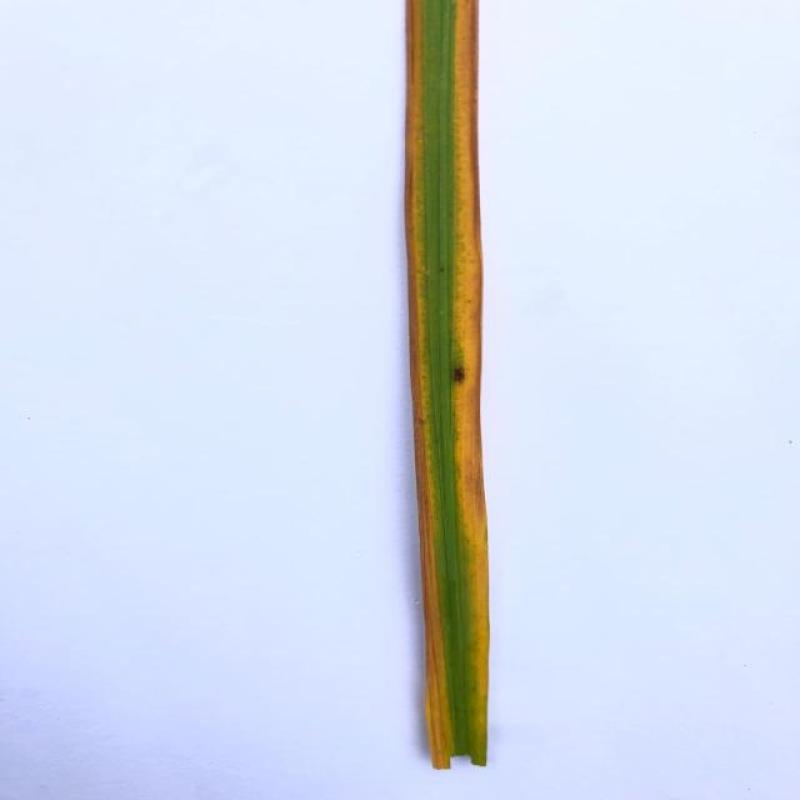Rice Tungro: (397, 0, 497, 775)
